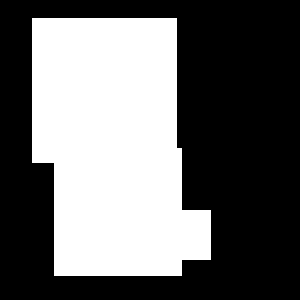circle: (32, 18, 177, 163), (54, 148, 182, 276), (161, 210, 211, 260)
triangle: (130, 21, 155, 46)
